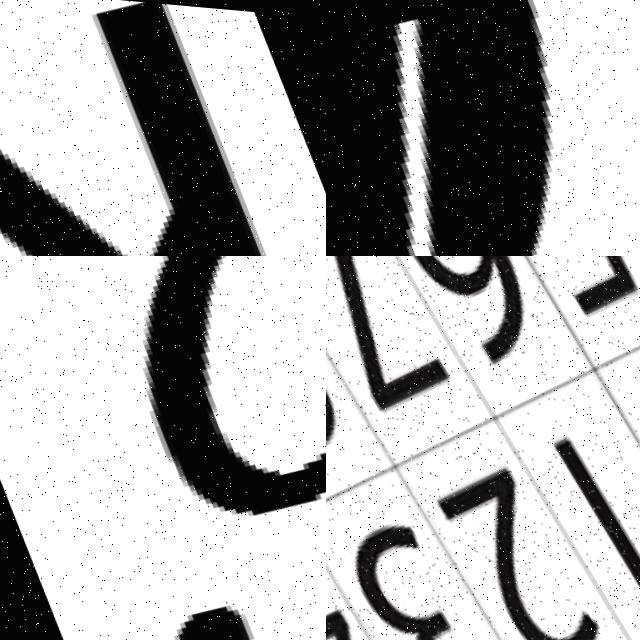1: (532, 396, 640, 627)
2: (410, 433, 613, 640)
3: (326, 492, 510, 640)
4: (326, 541, 411, 640)
5: (467, 256, 640, 331)
6: (0, 256, 326, 640), (362, 256, 564, 383)
7: (326, 256, 462, 429)
K: (0, 0, 326, 256)
Q: (326, 0, 640, 256)
